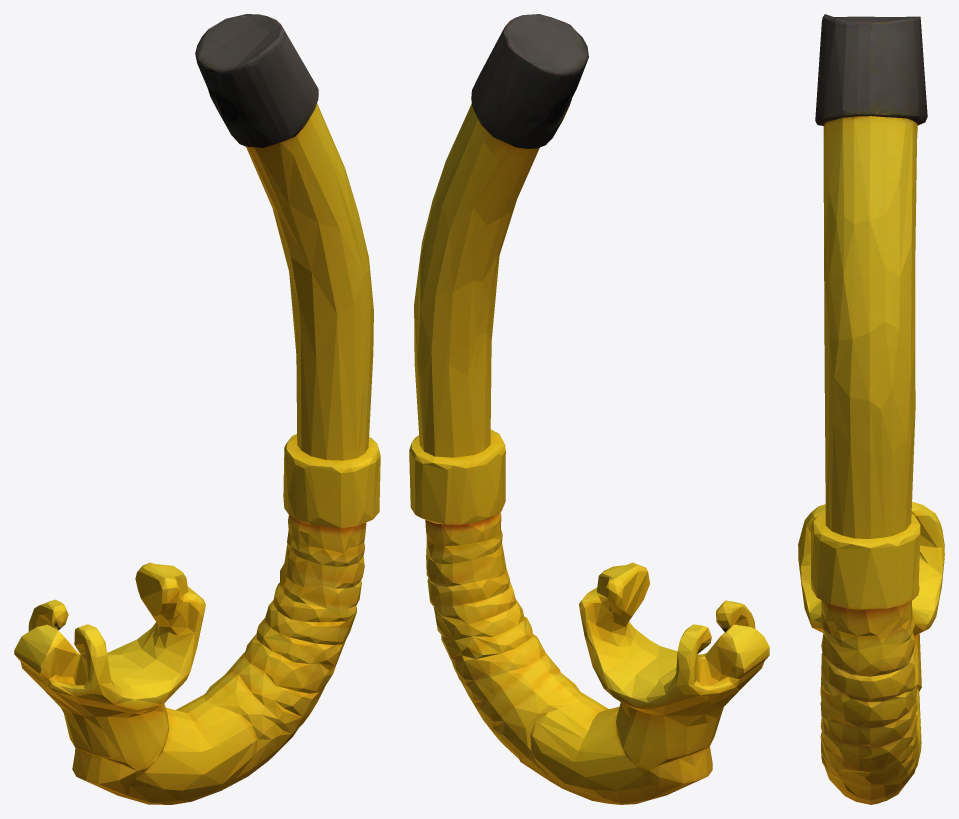
The model's file is snorkel.glb.
3 views of the same model, side by side, from view 1: azimuth 30°, elevation 25°; view 2: azimuth 150°, elevation 25°; view 3: azimuth 270°, elevation 25° (orthographic). The views are drawn at different scales.
Parts seen in each view (by area): view 1: geometry_0; view 2: geometry_0; view 3: geometry_0.
Boxes of the visible parts, x1,y1,x2,y2 form: geometry_0: (14, 14, 380, 804); geometry_0: (409, 14, 769, 804); geometry_0: (798, 14, 944, 804).
Size of the model in its own units: 0.2378 by 0.5 by 0.0818.
Materials: 1 (1 with a texture image).
